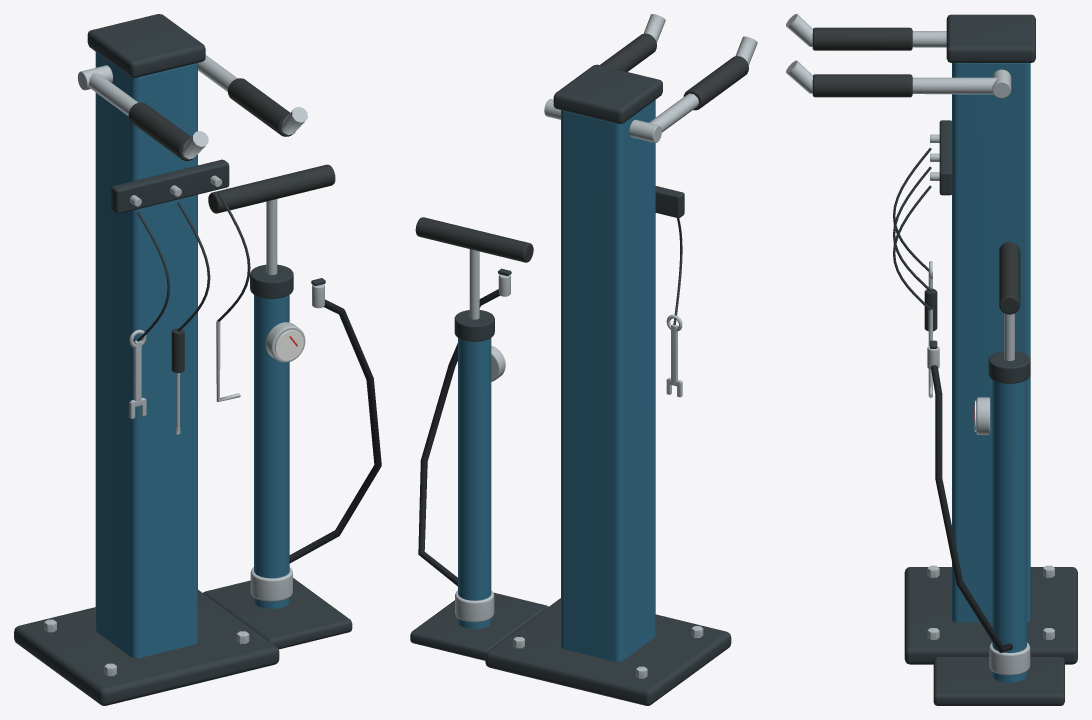
Rendered from city-bicycle-repair-stand.glb.
3 renders of one model, left to right at view 1: azimuth 30°, elevation 25°; view 2: azimuth 150°, elevation 25°; view 3: azimuth 270°, elevation 25°, orthographic. The views are drawn at different scales.
Visible parts, largest first — view 1: Structural service column, Station ground plate, Pump barrel, Pump footplate, Column cap, Tool tether mounting rail, Pump T handle, Pump air hose, Protective cradle sleeve.001, Protective cradle sleeve, Seat-support cradle arm, Pump upper guide (+6 smaller); view 2: Structural service column, Station ground plate, Pump barrel, Column cap, Pump footplate, Pump T handle, Pump air hose, Protective cradle sleeve, Seat-support cradle arm, Protective cradle sleeve.001, Pump upper guide, Pump lower collar (+3 smaller); view 3: Structural service column, Station ground plate, Pump barrel, Pump footplate, Column cap, Protective cradle sleeve, Protective cradle sleeve.001, Pump air hose, Seat-support cradle arm.001, Pump T handle, Pump upper guide, Seat-support cradle arm (+6 smaller).
Part boxes in pixels (box(x1,y1,x2,y2)): Structural service column: box(95, 52, 197, 658); Station ground plate: box(14, 590, 279, 705); Pump barrel: box(254, 295, 289, 608); Pump footplate: box(203, 578, 352, 649); Column cap: box(87, 14, 205, 77); Tool tether mounting rail: box(111, 159, 229, 213); Pump T handle: box(208, 164, 335, 213); Pump air hose: box(289, 299, 381, 563); Protective cradle sleeve.001: box(227, 78, 295, 136); Protective cradle sleeve: box(128, 102, 196, 160); Seat-support cradle arm: box(89, 72, 208, 159); Pump upper guide: box(250, 264, 293, 298); Structural service column: box(561, 100, 655, 661); Station ground plate: box(485, 598, 731, 705); Pump barrel: box(458, 338, 491, 628); Column cap: box(553, 64, 662, 123); Pump footplate: box(410, 592, 548, 660); Pump T handle: box(415, 217, 533, 262); Pump air hose: box(418, 289, 499, 586); Protective cradle sleeve: box(683, 56, 748, 110); Seat-support cradle arm: box(649, 36, 757, 132); Protective cradle sleeve.001: box(600, 33, 656, 71); Pump upper guide: box(454, 310, 494, 341); Pump lower collar: box(455, 590, 494, 622); Structural service column: box(952, 63, 1030, 622); Station ground plate: box(904, 567, 1077, 664); Pump barrel: box(992, 380, 1026, 682); Pump footplate: box(933, 657, 1064, 705); Column cap: box(946, 14, 1035, 62); Protective cradle sleeve: box(812, 27, 912, 50); Protective cradle sleeve.001: box(812, 74, 912, 97); Pump air hose: box(931, 365, 1012, 652); Seat-support cradle arm.001: box(786, 60, 996, 94); Pump T handle: box(999, 241, 1020, 314); Pump upper guide: box(988, 351, 1030, 383); Seat-support cradle arm: box(786, 14, 946, 47).
Bounding box in the file's own units: 0.6515 × 1.25 × 0.5558.
